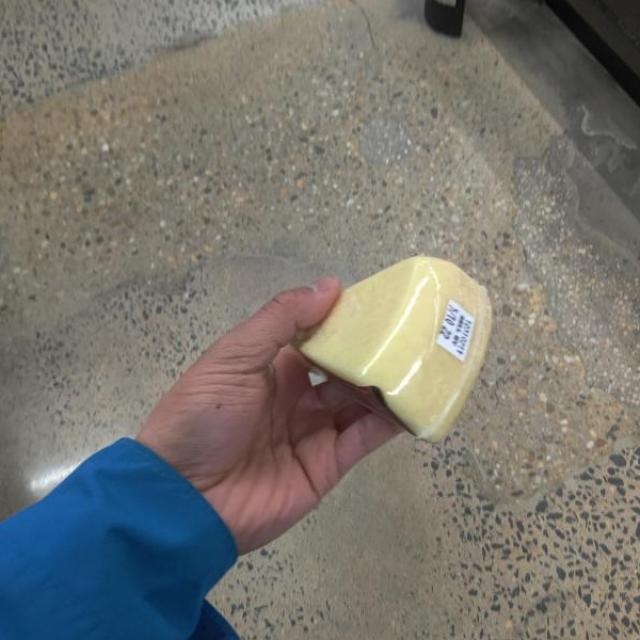Cheese: (289, 235, 512, 438)
